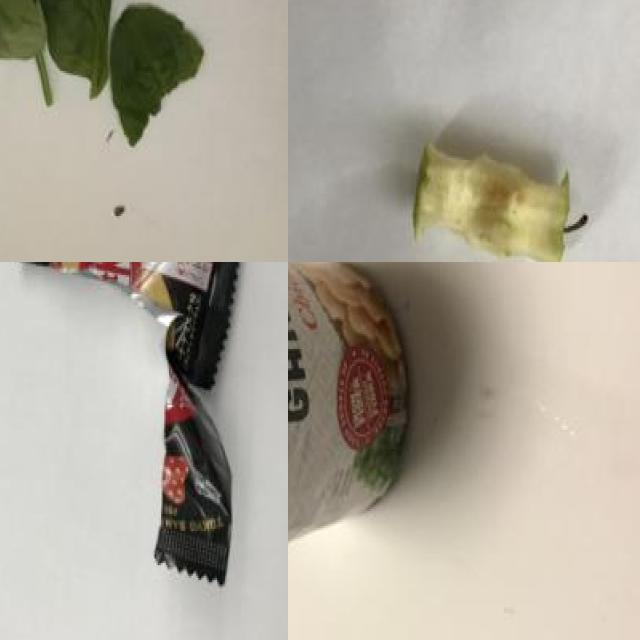compost: (0, 0, 211, 158), (407, 133, 592, 262)
plastic: (288, 262, 428, 640)
trash: (0, 262, 283, 593)
